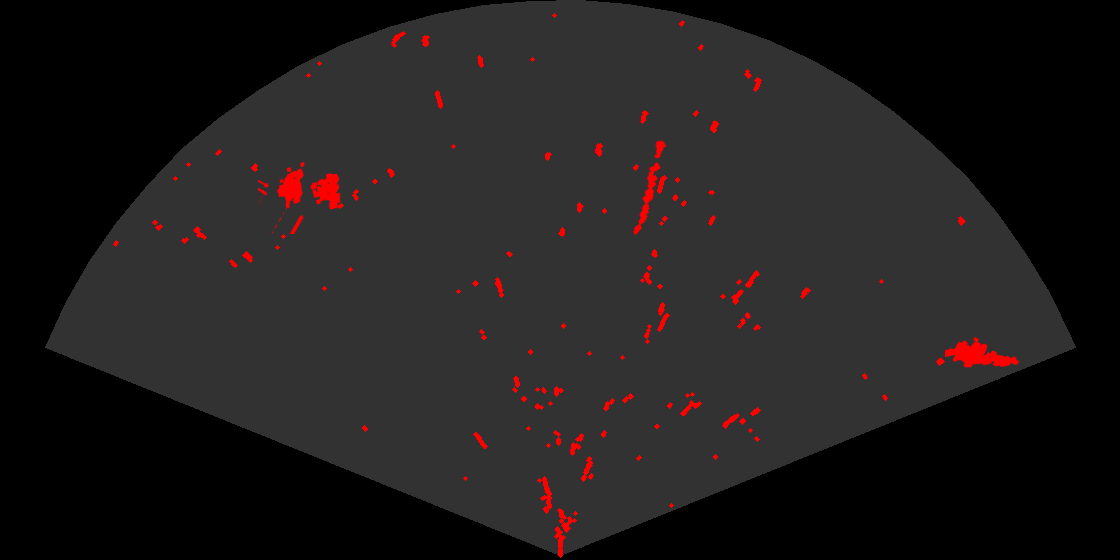cage: (258, 160, 342, 234)
chain: (632, 138, 668, 236)
frogman: (945, 335, 1021, 369)
